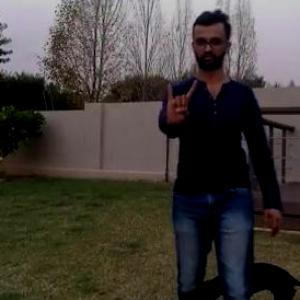takeoff-hand: (154, 74, 202, 132)
